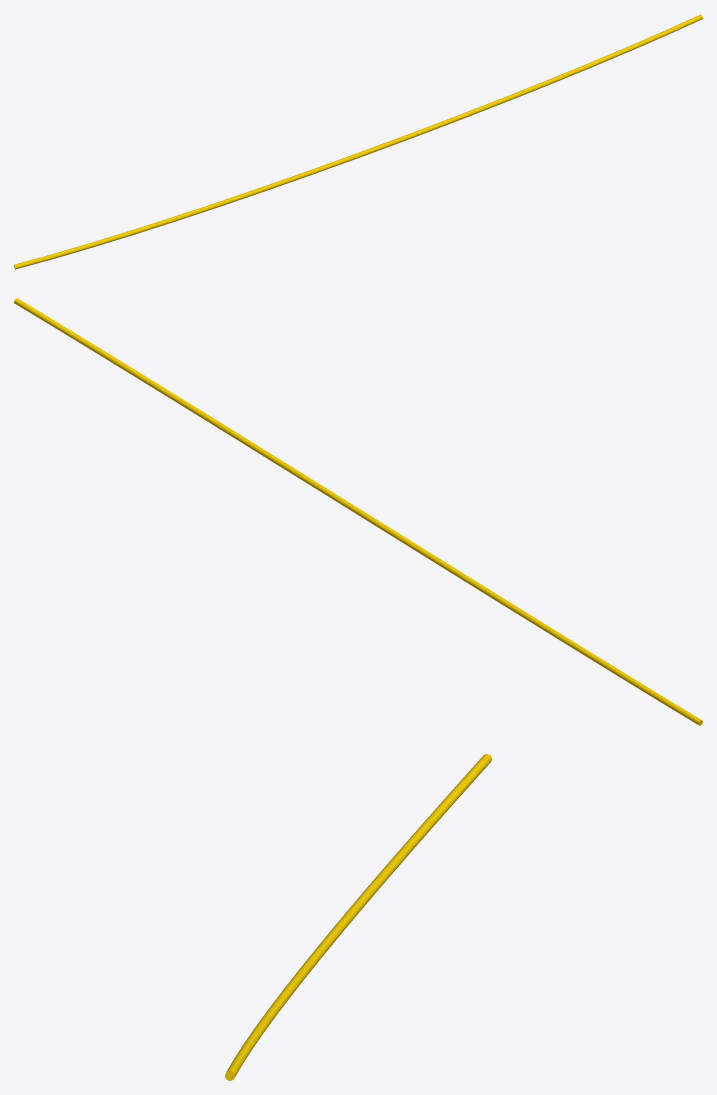
The model's file is Event_421278790_track_50.fbx.
The picture shows the model from 3 angles, top to bottom: view 1: azimuth 30°, elevation 25°; view 2: azimuth 150°, elevation 25°; view 3: azimuth 270°, elevation 25°; orthographic projection. The views are drawn at different scales.
Visible parts, largest first — view 1: Model; view 2: Model; view 3: Model.
Part boxes in pixels (left/top/right/bottom): Model: left=14, top=14, right=702, bottom=269; Model: left=14, top=298, right=702, bottom=725; Model: left=225, top=754, right=491, bottom=1080.
Bounding box in the file's own units: 5.7 × 1.31 × 1.06.
